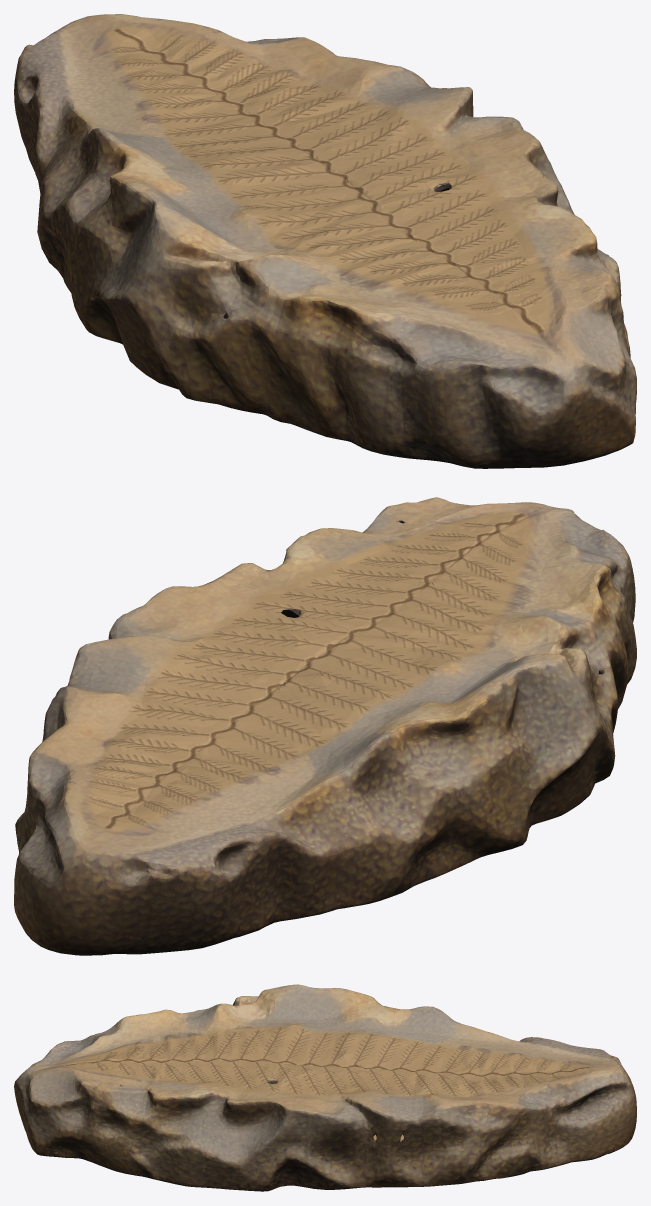
3 views of the same model, one above another, from view 1: azimuth 30°, elevation 25°; view 2: azimuth 150°, elevation 25°; view 3: azimuth 270°, elevation 25° (orthographic). The views are drawn at different scales.
Parts seen in each view (by area): view 1: world; view 2: world; view 3: world.
Boxes of the visible parts, bbox=[...] form: world: bbox=[14, 14, 636, 468]; world: bbox=[14, 497, 636, 955]; world: bbox=[14, 984, 636, 1191].
Size of the model in its own units: 0.5115 by 0.1607 by 1.
2 materials, 2 textured.
